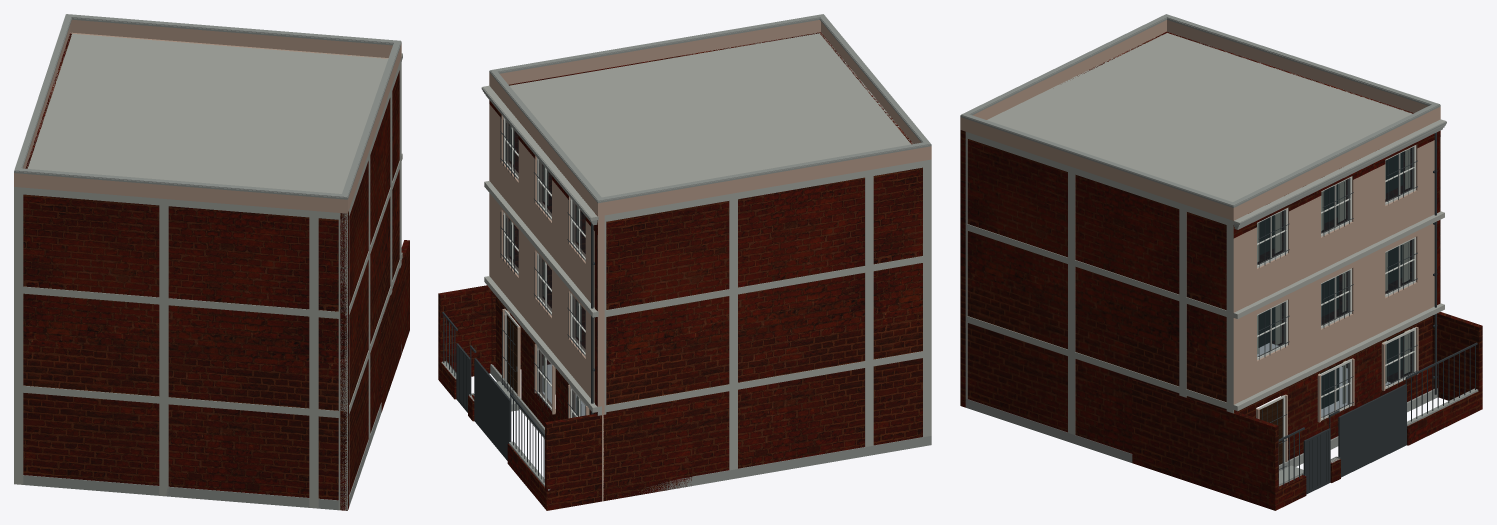
Rendered from building.glb.
3 renders of one model, left to right at view 1: azimuth 30°, elevation 25°; view 2: azimuth 150°, elevation 25°; view 3: azimuth 270°, elevation 25°, orthographic. The views are drawn at different scales.
Parts seen in each view (by area): view 1: main:0/edge0/z0/main:0/edge0/z0/wall_0_0/core0, roof/main:0/roof_slab#0001, main:0/edge1/z0/main:0/edge1/z0/wall_0_0/core0, roof/main:0/parapet#0001, roof/main:0/parapet_cap#0002, main:0/edge0/z0/plinth#0001, site/fence/0/wall#0001, roof/main:0/parapet_cap#0001, main:0/edge0/z0/main:0/edge0/z0/beam_0_0/core0, main:0/edge0/z0/main:0/edge0/z0/beam_1_0/core0, main:0/edge0/z0/main:0/edge0/z0/beam_2_0/core0, main:0/edge1/z0/main:0/edge1/z0/wall_0_0/clip1 (+16 smaller); view 2: main:0/edge3/z0/main:0/edge3/z0/wall_0_0, roof/main:0/roof_slab#0001, main:0/edge2/z0/main:0/edge2/z0/wall_1_0/core0, site/fence/2/wall#0001, roof/main:0/parapet#0001, roof/main:0/parapet_cap#0002, site/fence/0/wall#0001, main:0/edge3/z0/plinth#0001, main:0/edge3/z0/main:0/edge3/z0/beam_0_0, main:0/edge3/z0/main:0/edge3/z0/beam_1_0, main:0/edge3/z0/main:0/edge3/z0/beam_2_0, site/fence/1/garage_door#0001 (+19 smaller); view 3: main:0/edge1/z0/main:0/edge1/z0/wall_0_0/core0, roof/main:0/roof_slab#0001, main:0/edge2/z0/main:0/edge2/z0/wall_1_0/core0, site/fence/0/wall#0001, roof/main:0/parapet#0001, roof/main:0/parapet_cap#0002, site/fence/1/garage_door#0001, site/fence/2/wall#0001, main:0/edge3/z0/main:0/edge3/z0/wall_0_0, roof/main:0/parapet_cap#0001, main:0/edge1/z0/main:0/edge1/z0/beam_0_0/core0, main:0/edge1/z0/main:0/edge1/z0/beam_1_0/core0 (+33 smaller).
Part boxes in pixels (bbox=[...]): main:0/edge0/z0/main:0/edge0/z0/wall_0_0/core0: bbox=[23, 194, 338, 500]; roof/main:0/roof_slab#0001: bbox=[14, 33, 401, 198]; main:0/edge1/z0/main:0/edge1/z0/wall_0_0/core0: bbox=[349, 70, 399, 494]; roof/main:0/parapet#0001: bbox=[14, 19, 401, 213]; roof/main:0/parapet_cap#0002: bbox=[14, 14, 400, 197]; main:0/edge0/z0/plinth#0001: bbox=[23, 475, 338, 510]; site/fence/0/wall#0001: bbox=[381, 240, 409, 411]; roof/main:0/parapet_cap#0001: bbox=[14, 14, 401, 199]; main:0/edge0/z0/main:0/edge0/z0/beam_0_0/core0: bbox=[14, 385, 347, 418]; main:0/edge0/z0/main:0/edge0/z0/beam_1_0/core0: bbox=[14, 286, 347, 319]; main:0/edge0/z0/main:0/edge0/z0/beam_2_0/core0: bbox=[14, 187, 347, 220]; main:0/edge1/z0/main:0/edge1/z0/wall_0_0/clip1: bbox=[340, 213, 347, 510]; main:0/edge3/z0/main:0/edge3/z0/wall_0_0: bbox=[595, 167, 922, 476]; roof/main:0/roof_slab#0001: bbox=[509, 33, 926, 219]; main:0/edge2/z0/main:0/edge2/z0/wall_1_0/core0: bbox=[489, 104, 594, 402]; site/fence/2/wall#0001: bbox=[545, 399, 692, 510]; roof/main:0/parapet#0001: bbox=[489, 20, 931, 216]; roof/main:0/parapet_cap#0002: bbox=[490, 14, 930, 201]; site/fence/0/wall#0001: bbox=[438, 285, 491, 376]; main:0/edge3/z0/plinth#0001: bbox=[628, 436, 931, 495]; main:0/edge3/z0/main:0/edge3/z0/beam_0_0: bbox=[597, 350, 931, 413]; main:0/edge3/z0/main:0/edge3/z0/beam_1_0: bbox=[597, 254, 931, 317]; main:0/edge3/z0/main:0/edge3/z0/beam_2_0: bbox=[604, 159, 931, 221]; site/fence/1/garage_door#0001: bbox=[474, 358, 510, 460]; main:0/edge1/z0/main:0/edge1/z0/wall_0_0/core0: bbox=[967, 139, 1237, 453]; roof/main:0/roof_slab#0001: bbox=[987, 33, 1412, 222]; main:0/edge2/z0/main:0/edge2/z0/wall_1_0/core0: bbox=[1233, 140, 1434, 404]; site/fence/0/wall#0001: bbox=[1132, 379, 1278, 510]; roof/main:0/parapet#0001: bbox=[960, 20, 1440, 220]; roof/main:0/parapet_cap#0002: bbox=[961, 14, 1439, 205]; site/fence/1/garage_door#0001: bbox=[1338, 384, 1406, 477]; site/fence/2/wall#0001: bbox=[1437, 312, 1482, 410]; main:0/edge3/z0/main:0/edge3/z0/wall_0_0: bbox=[1167, 32, 1440, 388]; roof/main:0/parapet_cap#0001: bbox=[960, 18, 1440, 207]; main:0/edge1/z0/main:0/edge1/z0/beam_0_0/core0: bbox=[960, 314, 1233, 411]; main:0/edge1/z0/main:0/edge1/z0/beam_1_0/core0: bbox=[965, 224, 1233, 319].
Size of the model in its own units: 13.77 by 9.19 by 14.75.
10 materials, 2 textured.
